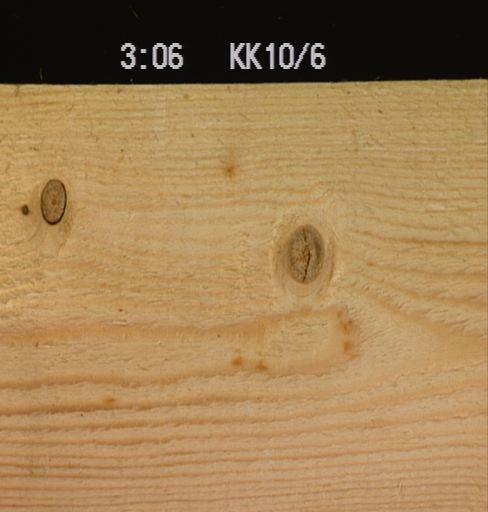dry_knot: (39, 177, 67, 225), (20, 203, 29, 215)
sound_knot: (281, 221, 325, 284)
